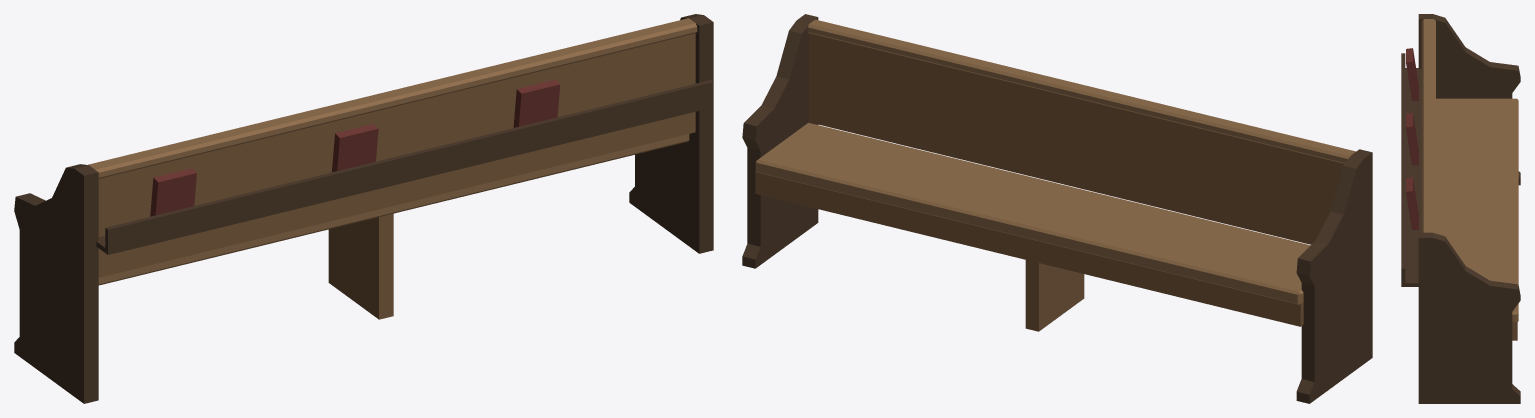
Rendered from banc_eglise.glb.
3 renders of one model, left to right at view 1: azimuth 30°, elevation 25°; view 2: azimuth 150°, elevation 25°; view 3: azimuth 270°, elevation 25°, orthographic. The views are drawn at different scales.
Visible parts, largest first — view 1: back, end_l, rack_lip, back_rail, end_r, leg, hymnals, seat, rack; view 2: back, seat, end_l, apron, end_r, back_rail, leg; view 3: seat, end_r, end_l, back_rail, rack, hymnals, rack_lip.
Boxes of the visible parts, box(x1,y1,x2,y2) form: back: box(98, 33, 695, 277); end_l: box(14, 164, 98, 403); rack_lip: box(105, 80, 713, 254); back_rail: box(87, 18, 697, 178); end_r: box(629, 14, 713, 253); leg: box(328, 213, 393, 319); hymnals: box(150, 79, 560, 216); seat: box(98, 134, 689, 285); rack: box(96, 102, 713, 254); back: box(809, 33, 1343, 244); seat: box(755, 123, 1310, 304); end_l: box(1296, 149, 1372, 403); apron: box(755, 170, 1303, 326); end_r: box(742, 14, 818, 268); back_rail: box(807, 19, 1355, 163); leg: box(1025, 260, 1084, 331); seat: box(1436, 98, 1518, 321); end_r: box(1418, 232, 1520, 403); end_l: box(1418, 14, 1520, 185); back_rail: box(1421, 19, 1435, 233); rack: box(1401, 68, 1421, 286); hymnals: box(1406, 48, 1418, 229); rack_lip: box(1401, 53, 1405, 286).
Bounding box in the file's own units: 2.6 × 0.9 × 0.585.
Materials: 4 (4 with a texture image).
